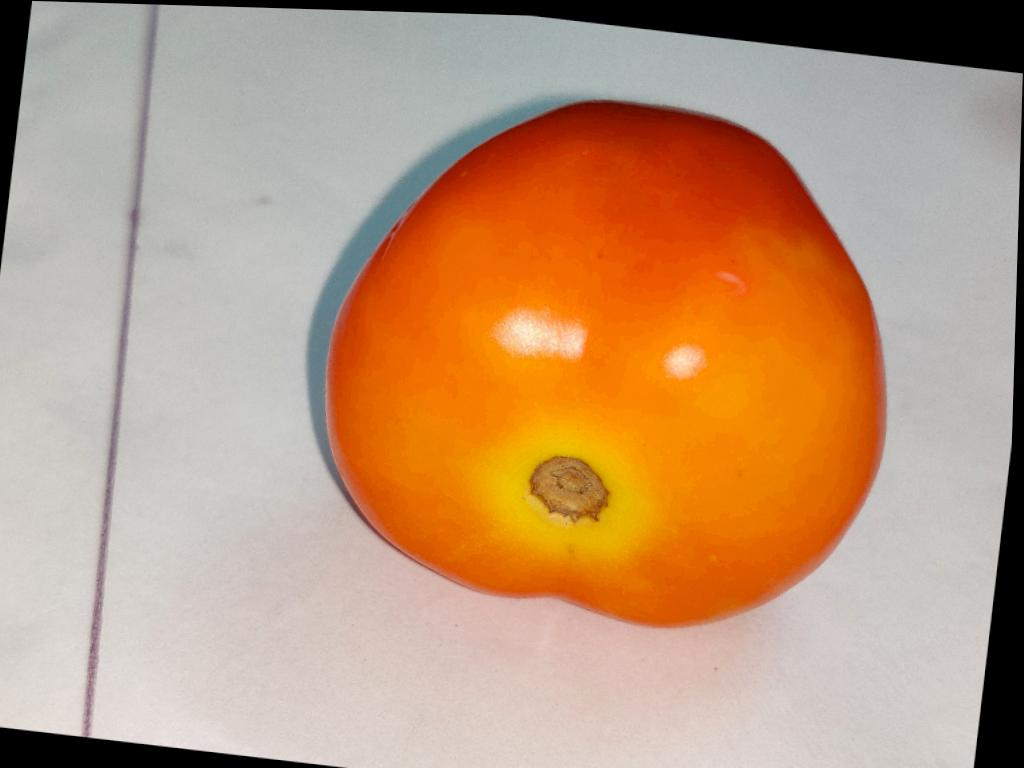tomato: (326, 101, 885, 625)
